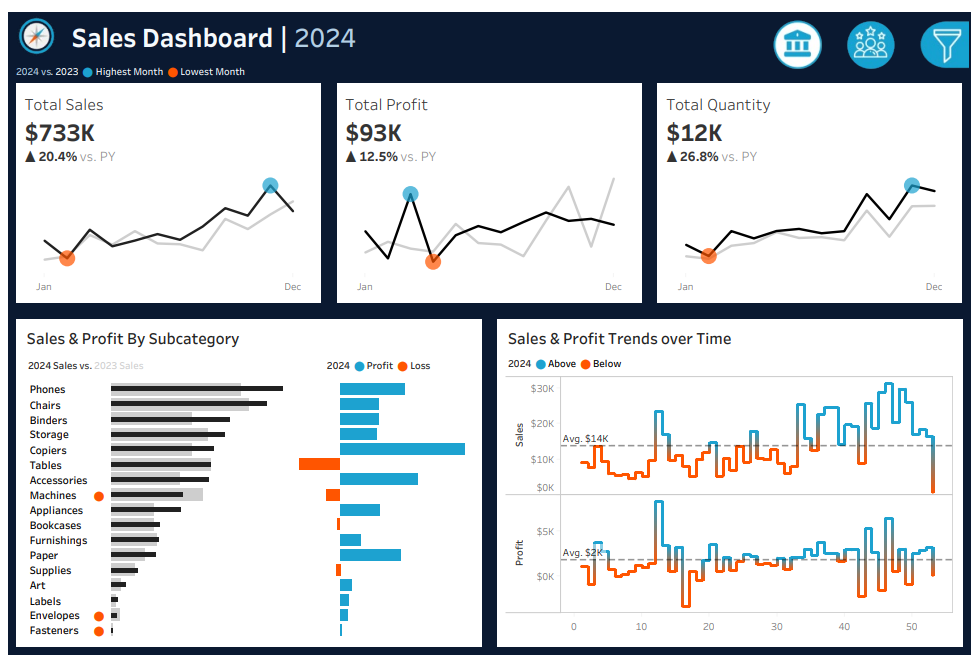

The page's visual inventory and layout, read from the dashboard file:
{"tool":"tableau","page":{"name":"Sales Dashboard","canvas":[1200,800],"ordinal":1},"visuals":[{"type":"image","param":"Image/Icon - Logo.png","box":[0,0,73,59]},{"type":"text","box":[73,0,820,59]},{"type":"dashboard-object","box":[940,6,91,70]},{"type":"dashboard-object","box":[1031,6,91,70]},{"type":"blank","box":[952,10,237,86]},{"type":"worksheet","title":"Legend KPI","mark":"Automatic","box":[0,59,1200,29]},{"type":"worksheet","title":"KPI Sales","mark":"Automatic","rows":["Calculation_721701895347843083"],"cols":["Order Date"],"box":[0,88,400,284]},{"type":"worksheet","title":"KPI Profit","mark":"Automatic","rows":["Min/Max Sales (copy)_237846410425847814"],"cols":["Order Date"],"box":[400,88,400,284]},{"type":"worksheet","title":"KPI Quantity","mark":"Automatic","rows":["Min/Max Sales (copy) (copy)_237846410425856007"],"cols":["Order Date"],"box":[800,88,400,284]},{"type":"text","box":[952,96,237,37]},{"type":"parameter","param":"[Parameters].[Parameter 1]","box":[952,133,237,55]},{"type":"text","box":[952,188,237,32]},{"type":"filter","title":"KPI Sales","param":"[federated.1kpxa041aiai2y1cl4pui1t4eju9].[none:Category:nk]","box":[952,220,237,57]},{"type":"filter","title":"KPI Sales","param":"[federated.1kpxa041aiai2y1cl4pui1t4eju9].[none:Sub-Category:nk]","box":[952,277,237,57]},{"type":"blank","box":[952,334,237,60]},{"type":"text","box":[17,389,566,40]},{"type":"text","box":[617,389,566,40]},{"type":"text","box":[952,394,237,32]},{"type":"filter","title":"KPI Sales","param":"[federated.1kpxa041aiai2y1cl4pui1t4eju9].[none:Region:nk]","box":[952,426,237,57]},{"type":"worksheet","title":"Legend Subcategory","mark":"Automatic","box":[17,429,374,32]},{"type":"text","box":[391,429,192,32]},{"type":"text","box":[617,429,566,29]},{"type":"worksheet","title":"Weekly Trends","mark":"Automatic","rows":["Calculation_721701895334993921","CY Sales (copy)_237846410424180736"],"cols":["Order Date"],"box":[617,458,566,325]},{"type":"worksheet","title":"Subcategory Comparison","mark":"Bar","rows":["Sub-Category","Calculation_2435040078806671369"],"cols":["CY Sales (copy)_721701895335804930","Calculation_721701895334993921","CY Sales (copy)_237846410424180736"],"box":[17,461,566,321.9]},{"type":"filter","title":"KPI Sales","param":"[federated.1kpxa041aiai2y1cl4pui1t4eju9].[none:State:nk]","box":[952,483,237,57]},{"type":"filter","title":"KPI Sales","param":"[federated.1kpxa041aiai2y1cl4pui1t4eju9].[none:City:nk]","box":[952,540,237,57]}]}

Visuals, with their boxes in screenshot pixels (x1, y1, x2, y2), scaled from the page's 1200x800 canvas onto the 977x664 screenshot:
image: crop(0, 0, 59, 49)
text: crop(59, 0, 727, 49)
dashboard-object: crop(765, 5, 839, 63)
dashboard-object: crop(839, 5, 913, 63)
blank: crop(775, 8, 968, 80)
"Legend KPI" worksheet: crop(0, 49, 976, 73)
"KPI Sales" worksheet: crop(0, 73, 326, 309)
"KPI Profit" worksheet: crop(326, 73, 651, 309)
"KPI Quantity" worksheet: crop(651, 73, 976, 309)
text: crop(775, 80, 968, 110)
parameter: crop(775, 110, 968, 156)
text: crop(775, 156, 968, 183)
"KPI Sales" filter: crop(775, 183, 968, 230)
"KPI Sales" filter: crop(775, 230, 968, 277)
blank: crop(775, 277, 968, 327)
text: crop(14, 323, 475, 356)
text: crop(502, 323, 963, 356)
text: crop(775, 327, 968, 354)
"KPI Sales" filter: crop(775, 354, 968, 401)
"Legend Subcategory" worksheet: crop(14, 356, 318, 383)
text: crop(318, 356, 475, 383)
text: crop(502, 356, 963, 380)
"Weekly Trends" worksheet: crop(502, 380, 963, 650)
"Subcategory Comparison" worksheet (Bar marks): crop(14, 383, 475, 650)
"KPI Sales" filter: crop(775, 401, 968, 448)
"KPI Sales" filter: crop(775, 448, 968, 496)
